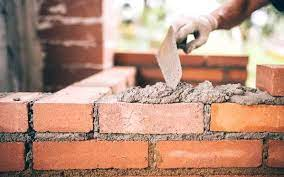brick: (33, 140, 148, 170), (155, 139, 263, 169), (99, 102, 203, 133), (210, 103, 284, 133), (33, 102, 92, 132), (0, 101, 28, 132), (0, 142, 25, 171), (268, 141, 284, 168)
